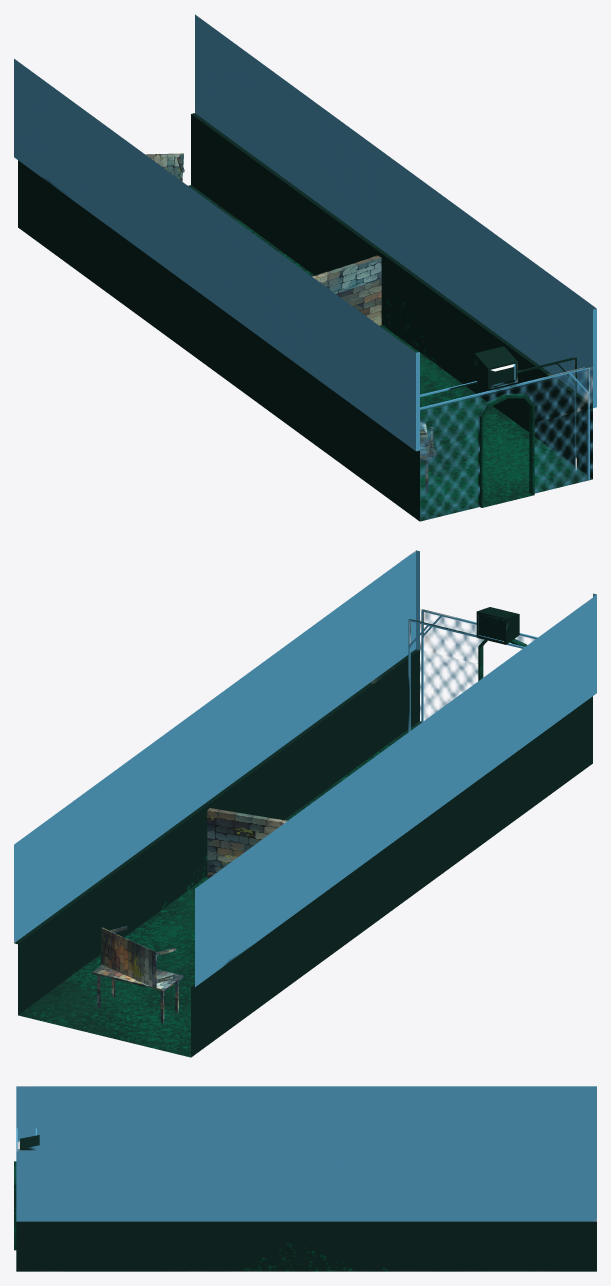
File: corridor4_1.glb
The picture shows the model from 3 angles, top to bottom: view 1: azimuth 30°, elevation 25°; view 2: azimuth 150°, elevation 25°; view 3: azimuth 270°, elevation 25°; orthographic projection. The views are drawn at different scales.
Parts seen in each view (by area): view 1: corridor_base.003, table_mesh.013; view 2: corridor_base.003, table_mesh.013, table_mesh.012, table_mesh.011; view 3: corridor_base.003.
Part boxes in pixels (bbox=[...]): corridor_base.003: bbox=[14, 14, 596, 521]; table_mesh.013: bbox=[312, 255, 381, 325]; corridor_base.003: bbox=[14, 550, 596, 1057]; table_mesh.013: bbox=[207, 808, 287, 877]; table_mesh.012: bbox=[100, 926, 176, 988]; table_mesh.011: bbox=[92, 964, 183, 1023]; corridor_base.003: bbox=[14, 1086, 596, 1271].
Bounding box in the file's own units: 5.18 × 4.65 × 20.
Materials: 2 (2 with a texture image).
